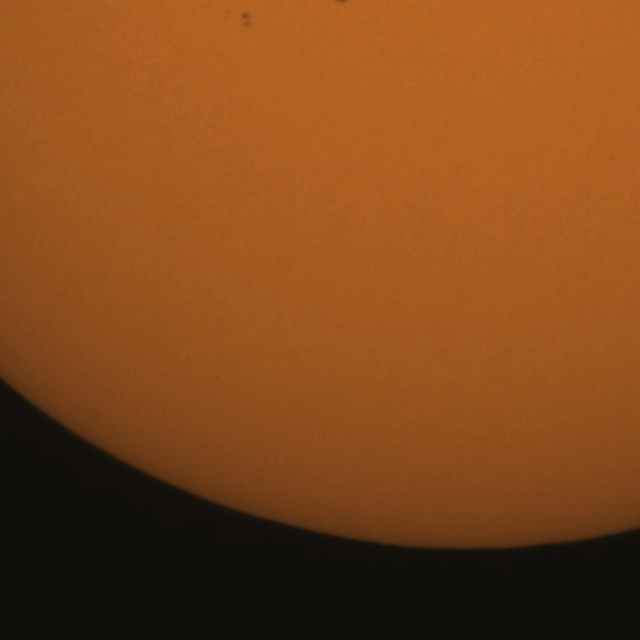sunspot: (240, 11, 253, 29)
